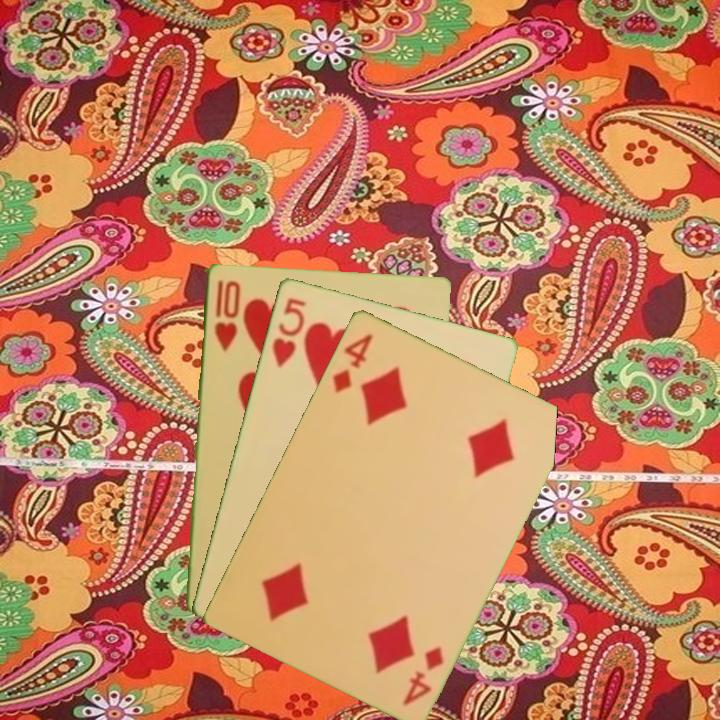10h: (211, 275, 242, 354)
4d: (399, 642, 447, 708), (328, 329, 375, 396)
5h: (268, 293, 309, 370)
